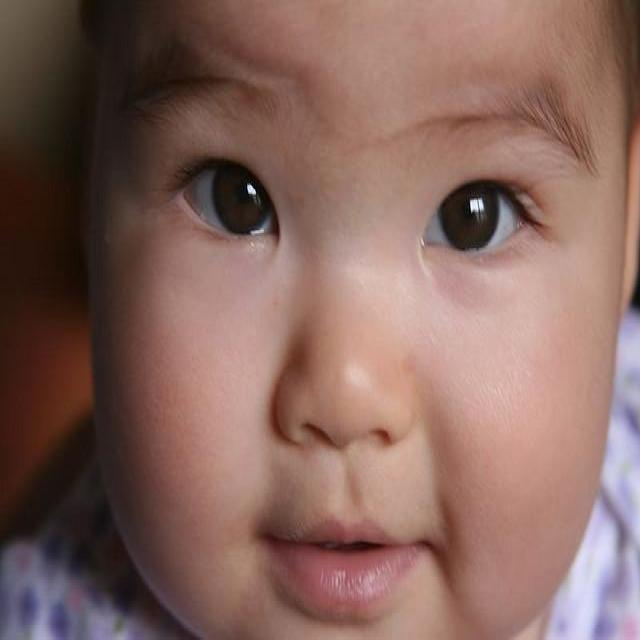no-glass: (167, 170, 536, 258)
